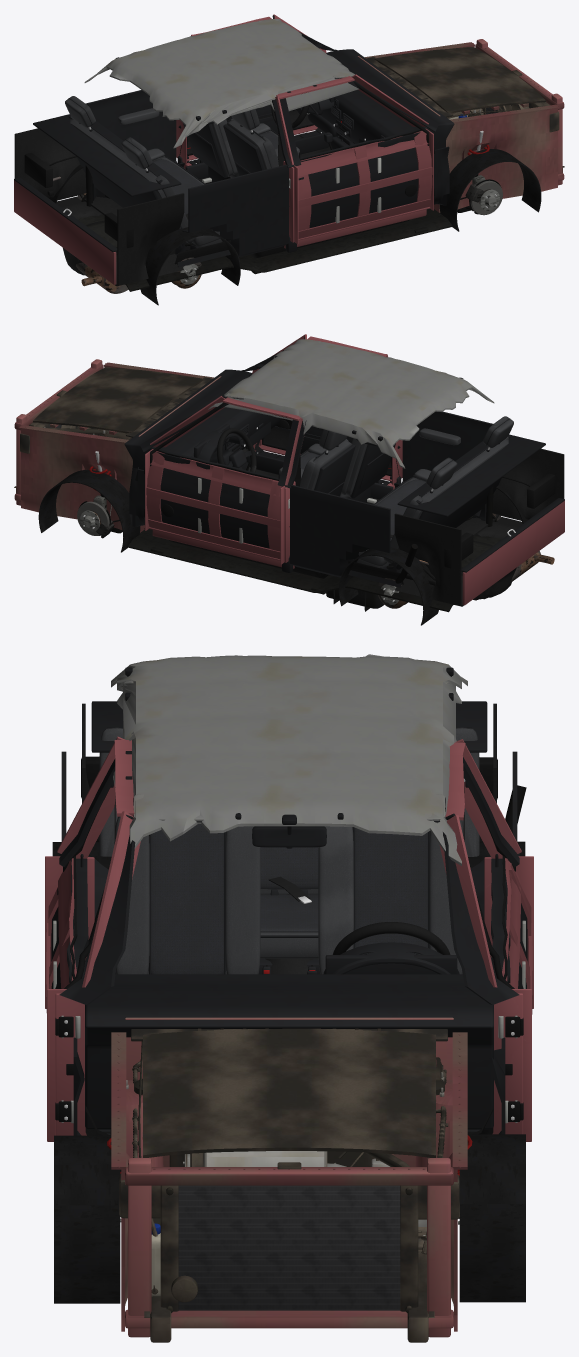
The model's file is hatch-quadrado_completo.glb.
3 views of the same model, one above another, from view 1: azimuth 30°, elevation 25°; view 2: azimuth 150°, elevation 25°; view 3: azimuth 270°, elevation 25° (orthographic). The views are drawn at different scales.
Visible parts, largest first — view 1: interior_forro_teto, interior_portamalas_carpete, door_card_fr_chapa, interior_lateral_traseira_dir, engine_paralama_interno_dir, hood_manta, interior_painel, door_card_fr, under_assoalho, interior_banco_traseiro, interior_portamalas_tampao, interior_lateral_traseira_esq (+19 smaller); view 2: interior_forro_teto, interior_portamalas_carpete, door_card_fl_chapa, interior_lateral_traseira_esq, engine_paralama_interno_esq, hood_manta, interior_painel, door_card_fl, under_assoalho, interior_banco_traseiro, interior_lateral_traseira_dir, interior_portamalas_tampao (+21 smaller); view 3: interior_forro_teto, hood_manta, engine_radiador, interior_painel, engine_travessa, interior_banco_dianteiro_dir, interior_banco_dianteiro_esq, under_caixa_roda_fl, under_caixa_roda_fr, interior_acabamento_colunas, jamb_fr_colunas, interior_banco_traseiro (+22 smaller).
Boxes of the visible parts, bbox=[...] form: interior_forro_teto: bbox=[84, 19, 358, 148]; interior_portamalas_carpete: bbox=[14, 128, 184, 286]; door_card_fr_chapa: bbox=[293, 130, 433, 244]; interior_lateral_traseira_dir: bbox=[175, 164, 288, 256]; engine_paralama_interno_dir: bbox=[438, 104, 560, 212]; hood_manta: bbox=[374, 47, 545, 114]; interior_painel: bbox=[306, 49, 454, 149]; door_card_fr: bbox=[298, 128, 421, 228]; under_assoalho: bbox=[79, 209, 452, 291]; interior_banco_traseiro: bbox=[65, 96, 225, 249]; interior_portamalas_tampao: bbox=[33, 114, 181, 196]; interior_lateral_traseira_esq: bbox=[85, 90, 177, 200]; interior_forro_teto: bbox=[208, 339, 494, 468]; interior_portamalas_carpete: bbox=[394, 448, 564, 606]; door_card_fl_chapa: bbox=[145, 450, 285, 564]; interior_lateral_traseira_esq: bbox=[290, 485, 402, 577]; engine_paralama_interno_esq: bbox=[18, 425, 132, 529]; hood_manta: bbox=[33, 367, 204, 434]; interior_painel: bbox=[124, 369, 281, 469]; door_card_fl: bbox=[157, 449, 279, 548]; under_assoalho: bbox=[127, 529, 500, 612]; interior_banco_traseiro: bbox=[353, 416, 513, 569]; interior_lateral_traseira_dir: bbox=[401, 411, 492, 521]; interior_portamalas_tampao: bbox=[397, 434, 545, 516]; interior_forro_teto: bbox=[111, 654, 467, 865]; hood_manta: bbox=[142, 1028, 436, 1157]; engine_radiador: bbox=[160, 1185, 418, 1312]; interior_painel: bbox=[85, 942, 493, 1129]; engine_travessa: bbox=[119, 1152, 459, 1337]; interior_banco_dianteiro_dir: bbox=[114, 816, 270, 974]; interior_banco_dianteiro_esq: bbox=[308, 820, 463, 974]; under_caixa_roda_fl: bbox=[459, 1134, 525, 1302]; under_caixa_roda_fr: bbox=[54, 1135, 120, 1303]; interior_acabamento_colunas: bbox=[59, 757, 519, 1004]; jamb_fr_colunas: bbox=[55, 736, 140, 1135]; interior_banco_traseiro: bbox=[99, 727, 479, 974].
Size of what is drawn, in the model's own units: 3.66 by 1.41 by 1.63.
54 materials, 54 textured.
